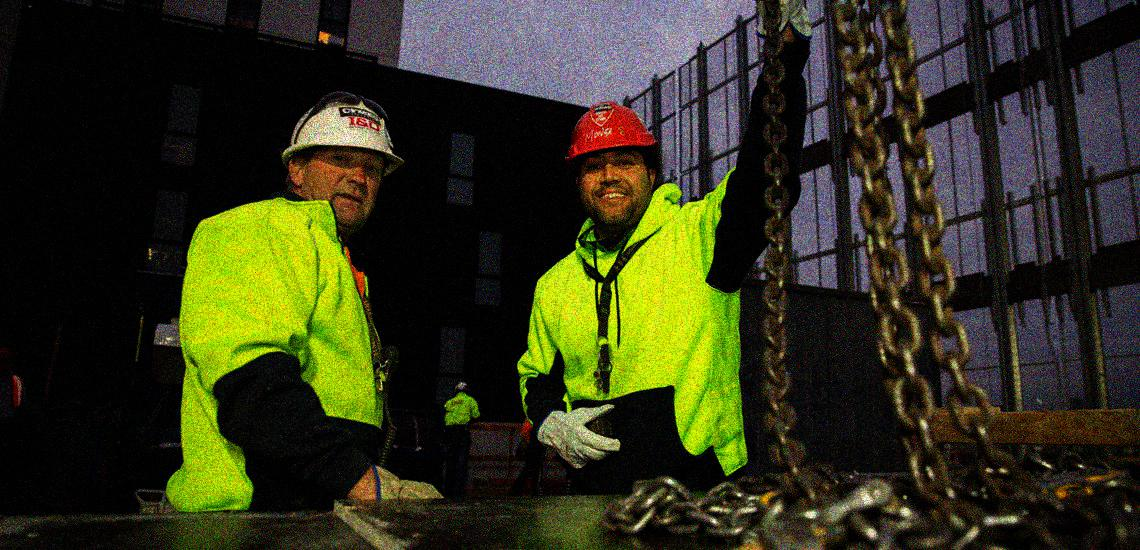helmet: (278, 90, 410, 233), (563, 97, 659, 226)
